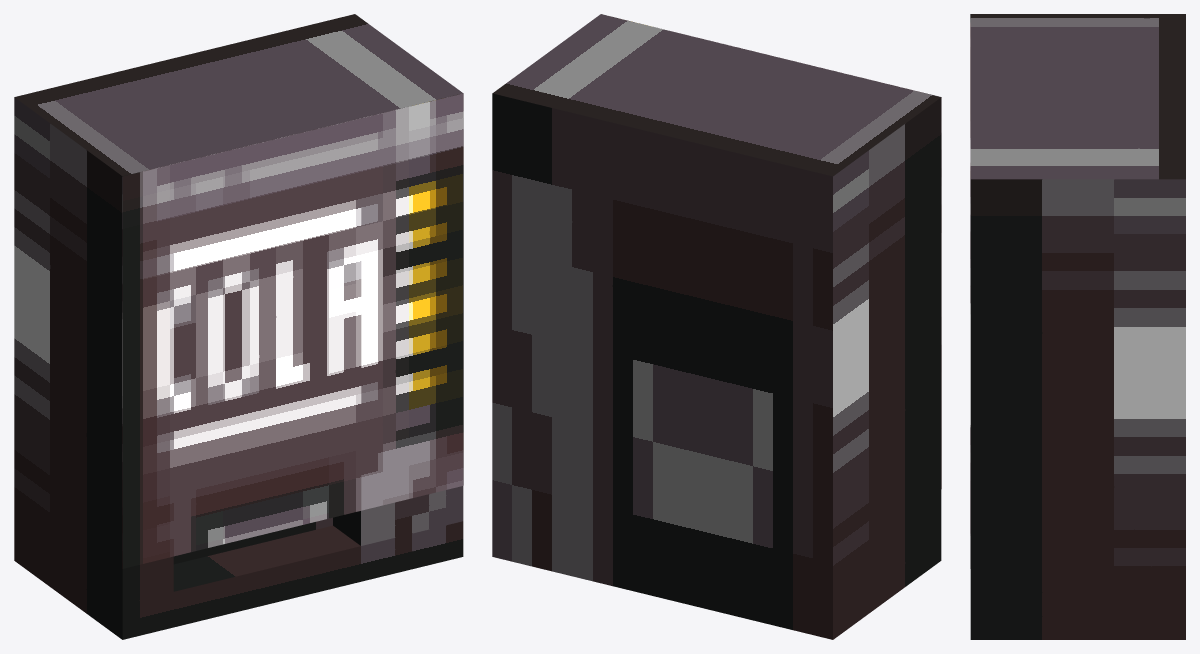
File: vending_cola_black.glb
The picture shows the model from 3 angles, left to right: view 1: azimuth 30°, elevation 25°; view 2: azimuth 150°, elevation 25°; view 3: azimuth 270°, elevation 25°; orthographic projection.
Visible parts, largest first — view 1: vending_cola_black, vending_cola_black_Cabinet, vending_cola_black_Delivery_Flap; view 2: vending_cola_black_Cabinet, vending_cola_black; view 3: vending_cola_black_Cabinet, vending_cola_black.
Part boxes in pixels (x1,y1,x2,y2): vending_cola_black: [122, 93, 463, 568]; vending_cola_black_Cabinet: [14, 14, 463, 639]; vending_cola_black_Delivery_Flap: [173, 517, 332, 564]; vending_cola_black_Cabinet: [492, 14, 941, 639]; vending_cola_black: [601, 14, 941, 488]; vending_cola_black_Cabinet: [970, 14, 1185, 639]; vending_cola_black: [970, 14, 970, 568].
Size of the model in its own units: 1.2 by 1.56 by 0.662.
3 materials, 3 textured.
